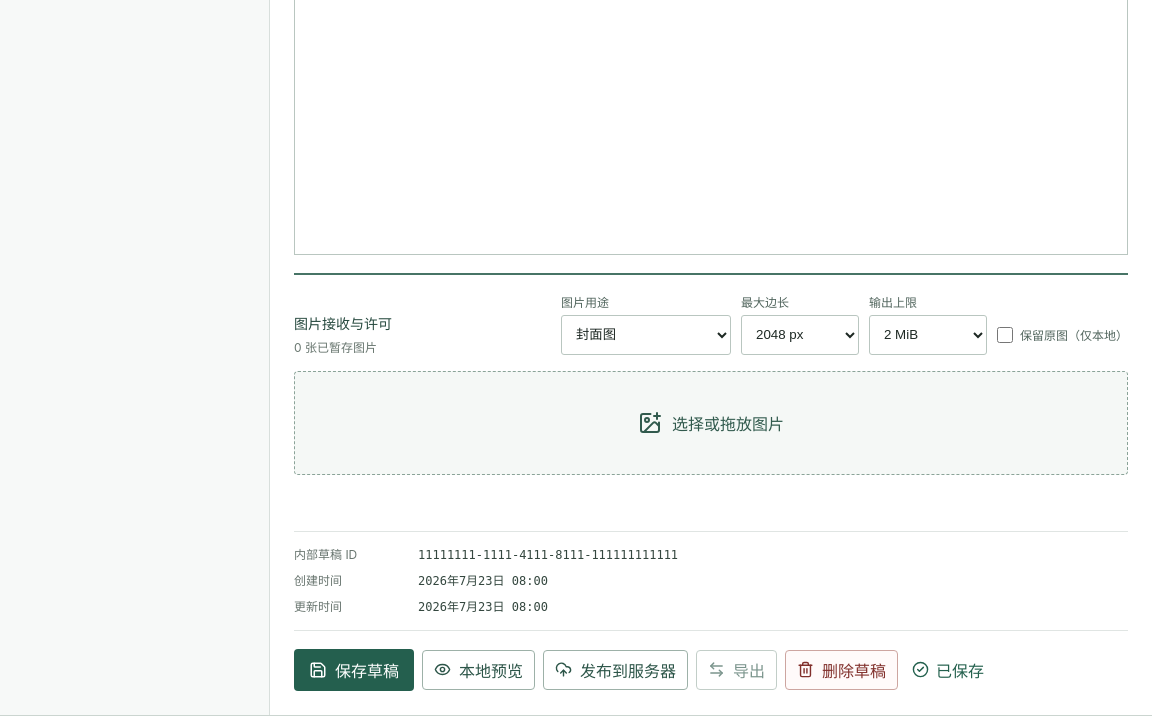
keeps a draft unpublished when direct server publishing fails
The width and height of the screenshot is (1152, 716).
(page scrolled)
Click the button "发布到服务器" at [616, 670], box [543, 650, 688, 690]
(page scrolled)
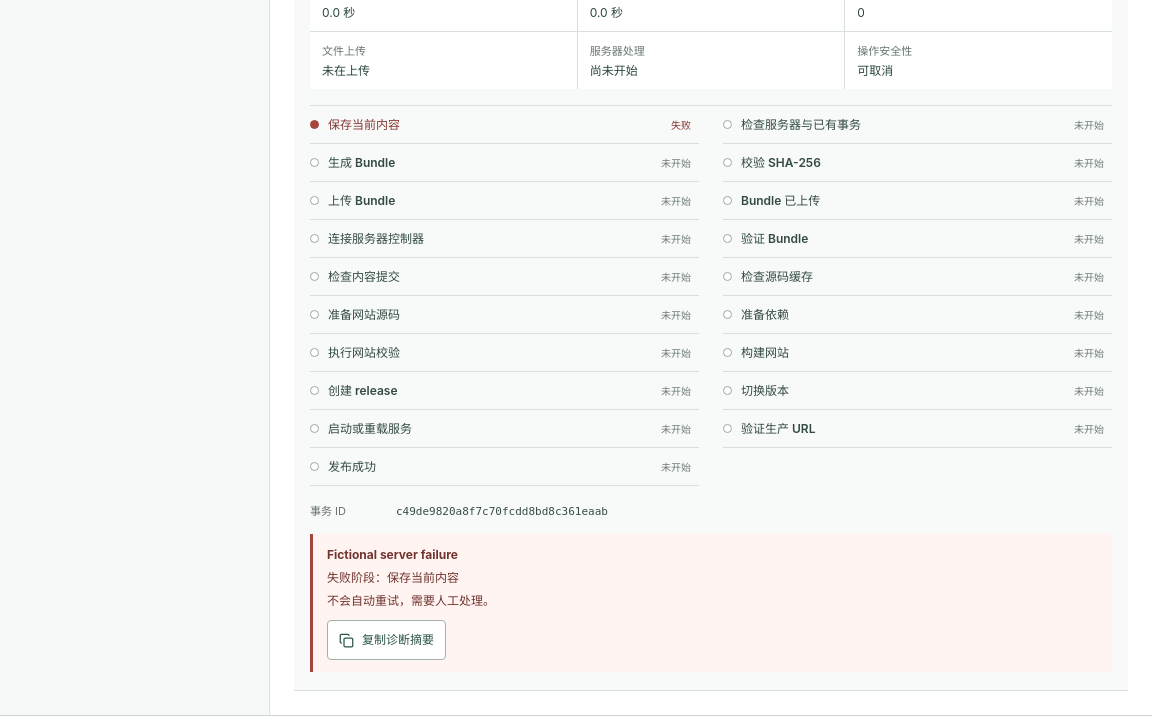
Now the message shows "Fictional server failure", box [327, 548, 458, 562]
